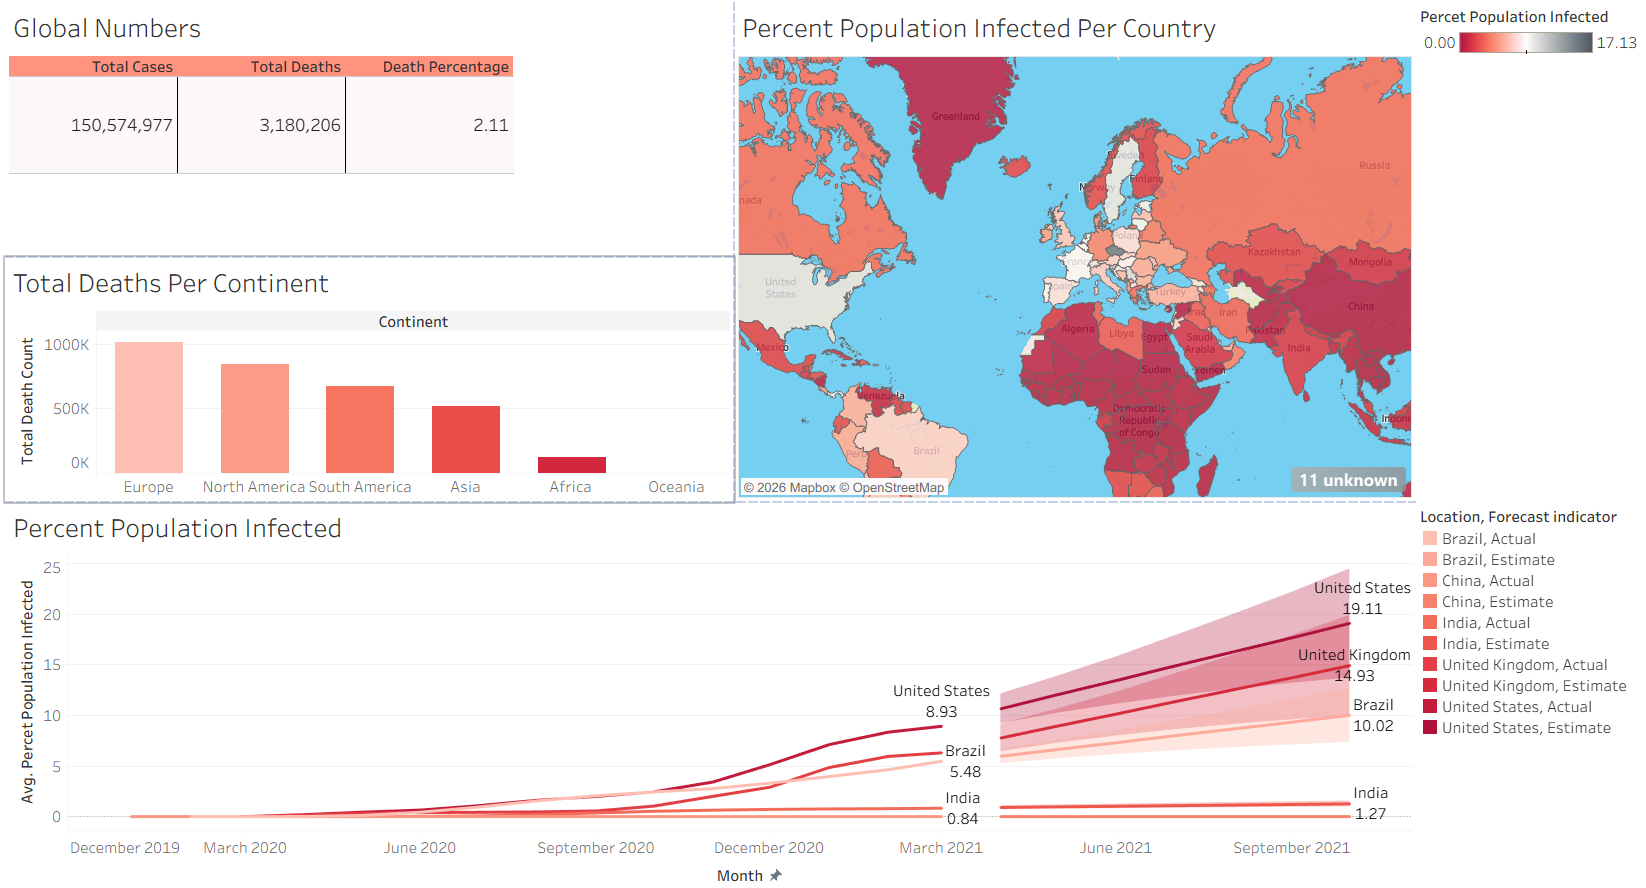

The page's visual inventory and layout, read from the dashboard file:
{"tool":"tableau","page":{"name":"Dashboard 1","canvas":[1000,1000],"units":"permille","ordinal":0},"visuals":[{"type":"worksheet","title":"Sheet 1","mark":"Automatic","box":[4.8,8.8,440,280.5]},{"type":"worksheet","title":"Sheet 3","mark":"Automatic","box":[444.9,8.8,411.5,548.9]},{"type":"legend","title":"Sheet 3","param":"[federated.0qxnczx1559mkg1eq8joi1gdil7i].[sum:PercetPopulationInfected:qk]","box":[856.4,8.8,138.8,548.9]},{"type":"worksheet","title":"Sheet 2","mark":"Automatic","rows":["TotalDeathCount"],"cols":["location"],"box":[4.8,289.2,440,268.4]},{"type":"worksheet","title":"Sheet 4","mark":"Automatic","rows":["PercetPopulationInfected"],"cols":["date"],"box":[4.8,557.6,851.5,433.6]},{"type":"legend","title":"Sheet 4","param":"[federated.0l95u6a005zbrd16y25io1lxb1ex].[none:Location:nk]\n[federated.0l95u6a00","box":[856.4,557.6,138.8,263.4]}]}

Visuals, with their boxes on the dashboard's canvas, which has no fixed pixel size, in thousandths of its width and height (x1, y1, x2, y2). These are canvas units, not pixel positions in the 1646x888 screenshot, which may show the page scaled, cropped or inside an application window:
"Sheet 1" worksheet: BBox(5, 9, 445, 289)
"Sheet 3" worksheet: BBox(445, 9, 856, 558)
"Sheet 3" legend: BBox(856, 9, 995, 558)
"Sheet 2" worksheet: BBox(5, 289, 445, 558)
"Sheet 4" worksheet: BBox(5, 558, 856, 991)
"Sheet 4" legend: BBox(856, 558, 995, 821)
